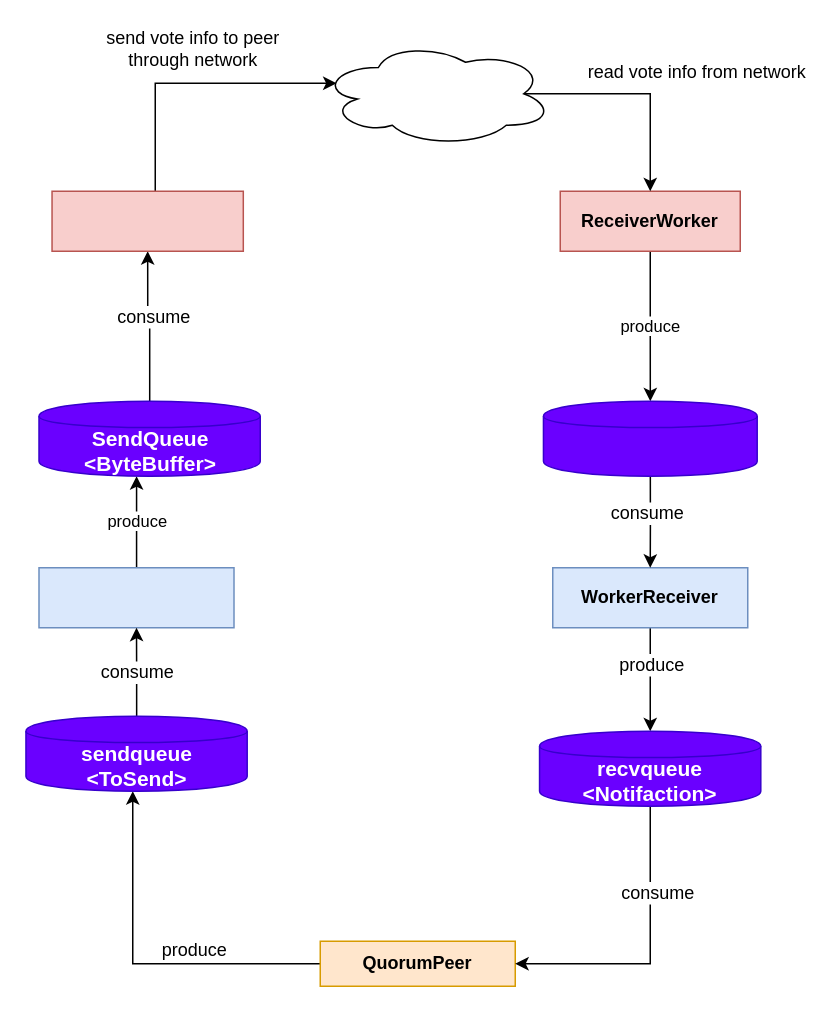
Some shapes in this 831 by 1013 pixel diagram are drawn without their labels. Here are the shapes that lost their labels. From the top down, the centre of each, then its label:
At point 147,220: "SenderWorker".
At point 649,438: "recvQueue <Message>".
At point 136,597: "WorkerSender".
